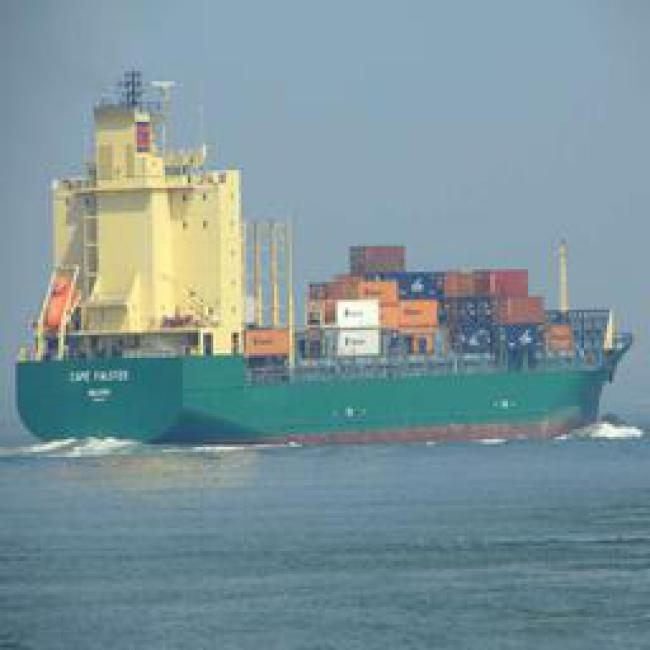Ship: (21, 167, 624, 440)
